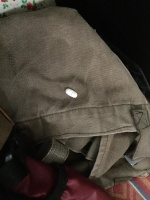Centik Buskopan: (65, 88, 78, 99)
